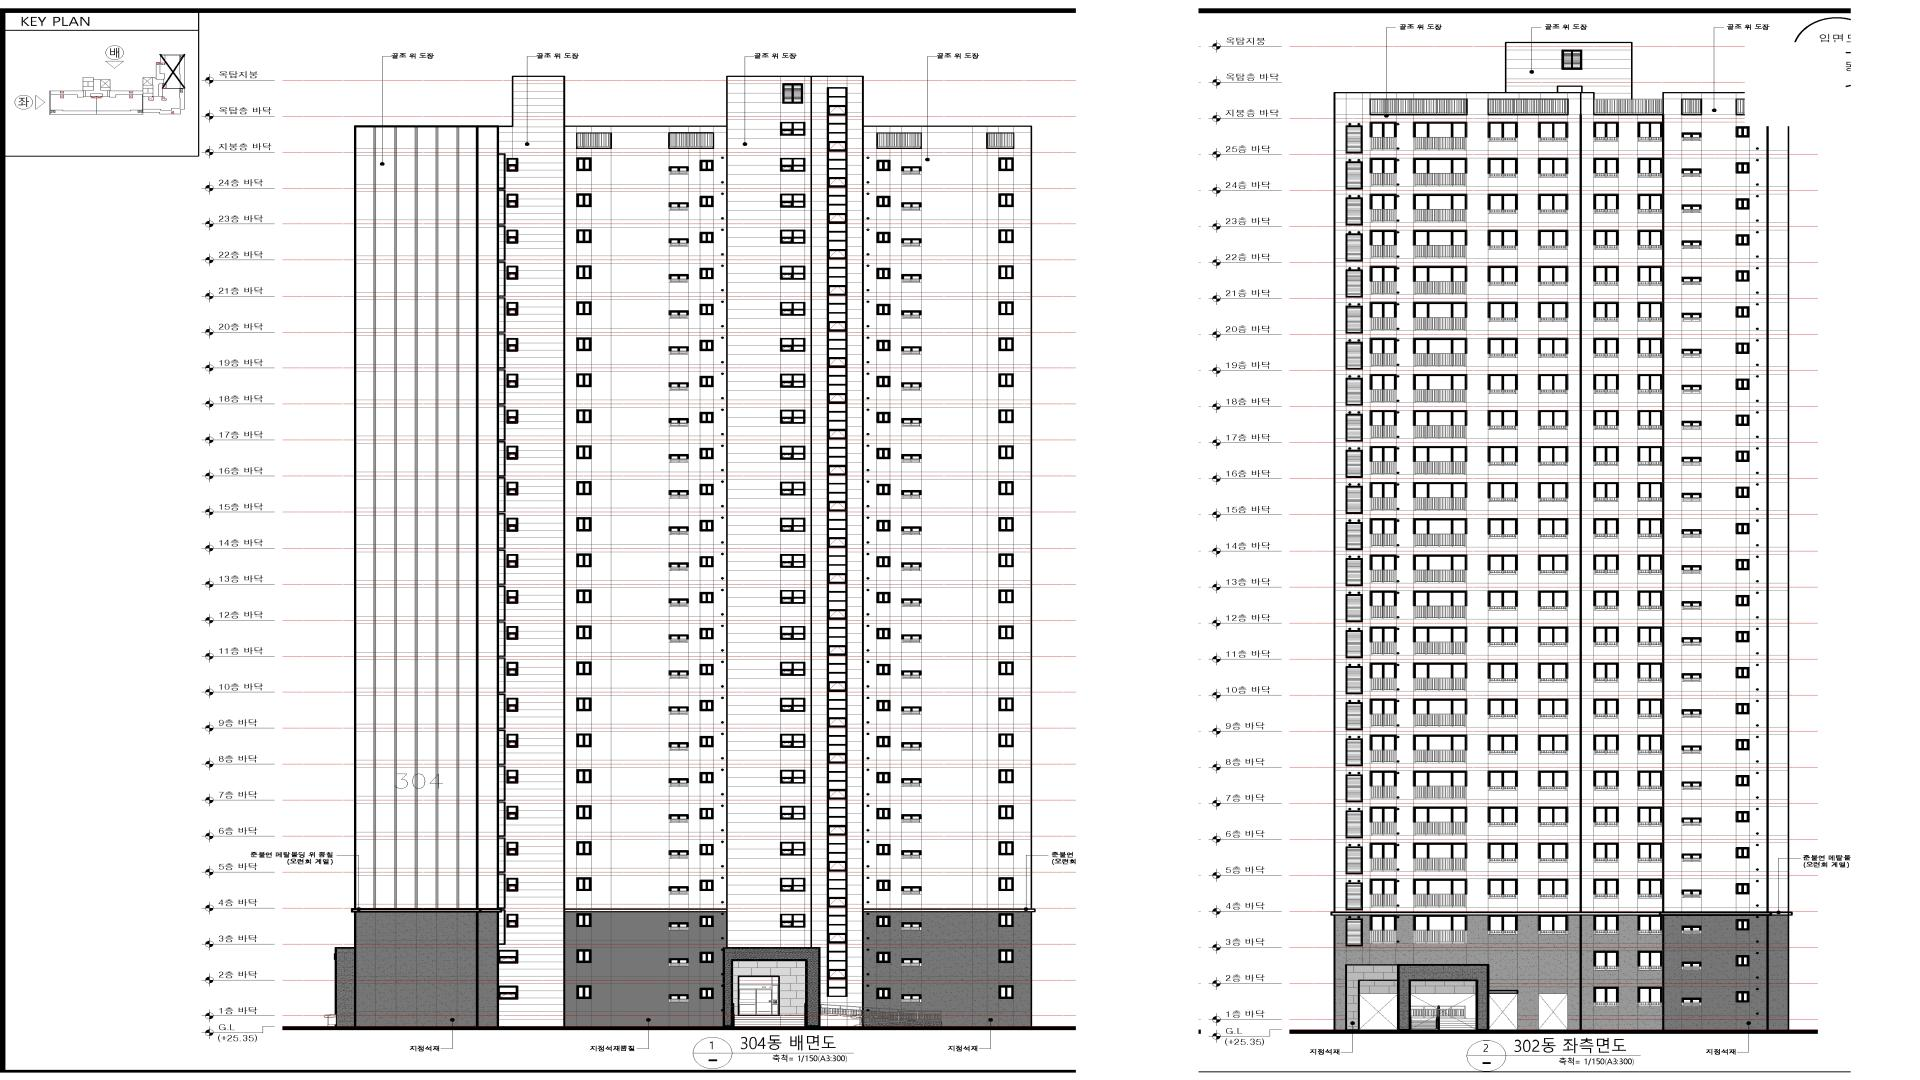door: (1411, 993, 1476, 1030), (737, 976, 781, 1015), (1360, 993, 1398, 1030), (1489, 994, 1518, 1030), (1539, 994, 1568, 1030)
wall: (335, 75, 1033, 1030), (1333, 42, 1789, 1034)
window: (1412, 662, 1468, 692), (1370, 99, 1468, 116), (1414, 554, 1468, 584), (1412, 446, 1468, 475), (1412, 483, 1468, 512), (1412, 518, 1468, 547), (1412, 591, 1468, 620), (1412, 626, 1468, 655), (1412, 699, 1468, 728), (1412, 735, 1468, 764), (1412, 770, 1468, 799), (1412, 807, 1468, 836), (1412, 843, 1468, 872), (1412, 878, 1468, 907), (1412, 915, 1468, 944), (1412, 194, 1468, 223), (1412, 229, 1468, 258), (1412, 265, 1468, 294), (1412, 302, 1468, 331), (1412, 338, 1468, 367), (1412, 375, 1468, 404), (1412, 410, 1468, 439), (1414, 121, 1468, 150), (1412, 158, 1468, 186), (1487, 99, 1569, 116), (827, 943, 848, 997), (1369, 194, 1398, 223), (1369, 265, 1398, 294), (1369, 302, 1398, 331), (1370, 843, 1398, 872), (1370, 878, 1398, 907), (1370, 915, 1398, 944), (1370, 121, 1398, 150), (1369, 158, 1396, 187), (1369, 229, 1396, 258), (1370, 338, 1398, 367), (1370, 375, 1398, 404), (1370, 518, 1398, 547), (1369, 554, 1396, 583), (1370, 591, 1398, 620), (1370, 626, 1398, 655), (1369, 699, 1396, 728), (827, 258, 848, 295), (827, 510, 848, 547), (827, 583, 848, 620), (827, 654, 848, 691), (827, 727, 848, 764), (1370, 483, 1398, 510), (1370, 410, 1396, 439), (1370, 446, 1396, 475), (1370, 662, 1396, 691), (1370, 735, 1396, 764), (1370, 770, 1396, 799), (1370, 807, 1396, 836), (827, 115, 848, 150), (827, 150, 848, 186), (827, 187, 848, 223), (827, 223, 848, 258), (827, 295, 848, 331), (827, 331, 848, 367), (827, 368, 848, 404), (827, 404, 848, 439), (827, 439, 848, 475), (827, 475, 848, 510), (827, 547, 848, 583), (827, 691, 848, 727), (827, 764, 848, 799), (827, 799, 848, 835), (827, 835, 848, 870), (827, 870, 848, 906), (827, 906, 848, 942), (827, 620, 848, 654), (1538, 554, 1568, 575), (1538, 662, 1568, 683), (1538, 265, 1568, 286), (1538, 914, 1568, 935), (1487, 265, 1518, 286), (1487, 446, 1518, 467), (1487, 481, 1518, 502), (1487, 554, 1518, 575), (1487, 662, 1518, 683), (1487, 914, 1518, 935), (1538, 807, 1569, 827), (1538, 410, 1569, 430), (1538, 591, 1569, 611), (1538, 626, 1569, 646), (1538, 302, 1569, 322), (1538, 338, 1569, 357), (1538, 878, 1569, 898), (1487, 410, 1519, 430), (1538, 735, 1568, 754), (1538, 770, 1568, 790), (1538, 843, 1568, 862), (1538, 375, 1568, 394), (1538, 446, 1568, 465), (1538, 483, 1568, 502), (1538, 518, 1568, 538), (1538, 699, 1568, 719), (1538, 121, 1568, 141), (1538, 158, 1568, 178), (1538, 194, 1568, 214), (1538, 229, 1568, 249), (1487, 121, 1518, 141), (1487, 158, 1518, 178), (1487, 194, 1518, 214), (1487, 229, 1518, 249), (1487, 302, 1518, 322), (1487, 338, 1518, 357), (1487, 375, 1518, 394), (1487, 518, 1518, 538), (1487, 591, 1518, 611), (1487, 626, 1518, 646), (1487, 699, 1518, 719), (1487, 735, 1518, 754), (1487, 770, 1518, 790), (1487, 807, 1518, 827), (1487, 843, 1518, 862), (1487, 878, 1518, 898), (827, 87, 848, 115), (1636, 554, 1664, 575), (1638, 265, 1664, 286), (1638, 373, 1664, 394), (1638, 662, 1664, 683), (1638, 770, 1664, 791), (1638, 914, 1664, 935), (1638, 986, 1664, 1007), (1593, 121, 1619, 142), (1593, 157, 1619, 178), (1593, 229, 1619, 251), (1593, 265, 1619, 286), (1593, 554, 1619, 575), (1593, 662, 1619, 683), (1593, 770, 1619, 791), (1593, 914, 1619, 935), (1636, 158, 1664, 178), (1636, 194, 1664, 214), (1636, 302, 1664, 322), (1636, 591, 1664, 611), (1636, 807, 1664, 827), (1345, 125, 1364, 154), (1345, 161, 1364, 190), (1345, 233, 1364, 262), (1345, 269, 1364, 298), (1345, 377, 1364, 406), (1345, 485, 1364, 514), (1345, 774, 1364, 803), (1345, 882, 1364, 911), (1345, 918, 1364, 947), (1638, 121, 1664, 141), (1638, 229, 1664, 249), (1638, 338, 1664, 357), (1638, 410, 1664, 430), (1638, 446, 1664, 465), (1638, 483, 1664, 502), (1638, 518, 1664, 538), (1638, 626, 1664, 646), (1638, 699, 1664, 719), (1638, 735, 1664, 754), (1638, 843, 1664, 862), (1638, 878, 1664, 898), (1638, 951, 1664, 971), (1593, 194, 1619, 214), (1593, 302, 1619, 322), (1593, 338, 1619, 357), (1593, 375, 1619, 394), (1593, 410, 1619, 430), (1593, 446, 1619, 465), (1593, 483, 1619, 502), (1593, 518, 1619, 538), (1593, 591, 1619, 611), (1593, 626, 1619, 646), (1593, 699, 1619, 719), (1593, 735, 1619, 754), (1593, 807, 1619, 827), (1593, 843, 1619, 862), (1593, 878, 1619, 898), (1593, 951, 1619, 971), (1593, 986, 1619, 1006), (1345, 198, 1364, 225), (1345, 306, 1364, 334), (1345, 342, 1364, 369), (1345, 414, 1364, 442), (1345, 450, 1364, 477), (1345, 522, 1364, 550), (1345, 558, 1364, 585), (1345, 595, 1364, 622), (1345, 630, 1364, 658), (1345, 666, 1364, 694), (1345, 703, 1364, 731), (1345, 738, 1364, 766), (1345, 811, 1364, 839), (1345, 847, 1364, 874), (782, 83, 803, 104), (1561, 50, 1582, 70), (779, 698, 806, 712), (779, 589, 806, 604), (779, 373, 806, 388), (779, 338, 806, 352), (779, 265, 806, 280), (779, 229, 806, 244), (779, 121, 806, 136), (781, 841, 806, 856), (781, 806, 806, 820), (781, 554, 806, 568), (781, 481, 806, 496), (1681, 99, 1702, 116), (779, 914, 806, 927), (779, 878, 806, 891), (779, 770, 806, 783), (779, 735, 806, 748), (779, 626, 806, 640), (779, 518, 806, 531), (779, 446, 806, 459), (779, 410, 806, 423), (779, 302, 806, 315), (779, 194, 806, 207), (779, 158, 806, 171), (781, 662, 806, 675), (497, 985, 518, 1000), (498, 949, 518, 964), (576, 157, 592, 171), (576, 265, 592, 280), (576, 301, 592, 315), (576, 409, 592, 423), (576, 517, 592, 531), (576, 625, 592, 640), (576, 733, 592, 748), (576, 769, 592, 783), (576, 877, 592, 891), (576, 985, 592, 1000), (998, 985, 1014, 1000), (998, 877, 1014, 891), (998, 769, 1014, 783), (998, 733, 1014, 748), (998, 625, 1014, 640), (998, 589, 1014, 604), (998, 517, 1014, 531), (998, 409, 1014, 423), (998, 373, 1014, 388), (998, 301, 1014, 315), (998, 265, 1014, 280), (998, 229, 1014, 244), (998, 157, 1014, 171), (576, 194, 592, 207), (576, 229, 592, 243), (576, 338, 592, 351), (576, 373, 592, 386), (576, 446, 592, 459), (576, 481, 592, 495), (576, 554, 592, 567), (576, 589, 592, 603), (576, 662, 592, 675), (576, 698, 592, 711), (576, 806, 592, 819), (576, 841, 592, 855), (576, 914, 592, 927), (576, 949, 592, 963), (998, 949, 1014, 963), (998, 914, 1014, 927), (998, 841, 1014, 855), (998, 806, 1014, 819), (998, 698, 1014, 711), (998, 662, 1014, 675), (998, 554, 1014, 567), (998, 481, 1014, 495), (998, 446, 1014, 459), (998, 338, 1014, 351), (998, 194, 1014, 207), (901, 202, 922, 211), (901, 454, 922, 463), (901, 526, 922, 535), (901, 670, 922, 679), (901, 814, 922, 823), (669, 957, 690, 967), (669, 922, 690, 931), (669, 670, 690, 679), (669, 526, 690, 535), (669, 454, 690, 463), (669, 310, 690, 319), (669, 202, 690, 211), (1681, 421, 1702, 430), (1681, 745, 1702, 754), (1681, 818, 1702, 827), (1681, 853, 1702, 862), (1681, 889, 1702, 898), (1681, 961, 1702, 971), (1681, 997, 1702, 1006), (1681, 132, 1702, 141), (1681, 204, 1702, 214), (1681, 240, 1702, 249), (1681, 456, 1702, 465), (1681, 529, 1702, 538), (1681, 637, 1702, 646), (1681, 313, 1702, 322), (506, 229, 518, 244), (506, 302, 518, 316), (506, 338, 518, 352), (506, 446, 518, 460), (506, 481, 518, 496), (506, 554, 518, 568), (506, 589, 518, 604), (506, 698, 518, 712), (506, 806, 518, 820), (506, 841, 518, 856), (699, 988, 713, 1000), (699, 915, 713, 927), (699, 880, 713, 891), (699, 844, 713, 856), (699, 771, 713, 783), (699, 736, 713, 748), (699, 663, 713, 675), (699, 628, 713, 640), (699, 520, 713, 531), (699, 447, 713, 459), (699, 411, 713, 423), (699, 376, 713, 388), (699, 303, 713, 315), (699, 268, 713, 280), (877, 195, 891, 207), (876, 303, 890, 315), (876, 376, 890, 388), (876, 520, 890, 531), (876, 736, 890, 748), (876, 844, 890, 856), (876, 880, 890, 891), (876, 915, 890, 927), (876, 988, 890, 1000), (1735, 162, 1750, 174), (1735, 198, 1750, 210), (1735, 270, 1750, 282), (1735, 306, 1750, 318), (1735, 378, 1750, 390), (1735, 414, 1750, 426), (1735, 487, 1750, 498), (1735, 559, 1750, 571), (1735, 595, 1750, 607), (1735, 630, 1750, 642), (1735, 667, 1750, 679), (1735, 703, 1750, 715), (1735, 738, 1750, 750), (1735, 811, 1750, 823), (1735, 847, 1750, 858), (1735, 919, 1750, 931), (1735, 955, 1750, 967), (901, 166, 922, 174), (901, 239, 922, 247), (901, 274, 922, 282), (901, 310, 922, 318), (901, 347, 922, 355), (901, 382, 922, 390), (901, 418, 922, 426), (901, 491, 922, 498), (901, 563, 922, 571), (901, 599, 922, 607), (901, 634, 922, 642), (901, 707, 922, 715), (901, 742, 922, 750), (901, 778, 922, 786), (901, 851, 922, 858), (901, 886, 922, 894), (901, 922, 922, 930), (901, 959, 922, 967), (901, 994, 922, 1002), (669, 994, 690, 1002), (669, 851, 690, 858), (669, 778, 690, 786), (669, 742, 690, 750), (669, 707, 690, 715), (669, 634, 690, 642), (669, 563, 690, 571), (669, 418, 690, 426), (669, 382, 690, 390), (669, 274, 690, 282), (669, 166, 690, 174), (1681, 674, 1702, 682), (1681, 709, 1702, 717), (1681, 782, 1702, 790), (1681, 926, 1702, 934), (1681, 169, 1702, 177), (1681, 277, 1702, 285), (1681, 493, 1702, 501), (1681, 566, 1702, 574), (1681, 601, 1702, 609), (1681, 349, 1702, 357), (1681, 385, 1702, 393), (1735, 99, 1745, 116), (506, 158, 518, 171), (506, 194, 518, 207), (506, 266, 518, 280), (506, 375, 518, 388), (506, 410, 518, 423), (506, 518, 518, 531), (506, 626, 518, 640), (506, 662, 518, 675), (506, 735, 518, 748), (506, 770, 518, 783), (506, 878, 518, 891), (506, 914, 518, 927), (700, 160, 713, 171), (877, 160, 890, 171), (877, 268, 890, 280), (877, 411, 890, 423), (877, 484, 890, 496), (877, 592, 890, 604), (877, 628, 890, 640), (877, 663, 890, 675), (877, 771, 890, 783), (669, 886, 688, 894), (669, 815, 688, 823), (669, 599, 688, 607), (669, 491, 688, 498), (669, 347, 688, 355), (669, 239, 688, 247), (699, 952, 713, 963), (699, 808, 713, 819), (699, 700, 713, 711), (699, 592, 713, 603), (699, 556, 713, 567), (699, 484, 713, 495), (699, 340, 713, 351), (699, 232, 713, 243), (699, 196, 713, 207), (876, 232, 890, 243), (876, 448, 890, 459), (876, 952, 890, 963), (1735, 127, 1750, 137), (1735, 235, 1750, 245), (1735, 343, 1750, 353), (1735, 451, 1750, 462), (1735, 524, 1750, 534), (1735, 775, 1750, 786), (1735, 884, 1750, 894), (1735, 992, 1750, 1002), (877, 340, 890, 351), (877, 556, 890, 567), (877, 700, 890, 711), (877, 808, 890, 819)
